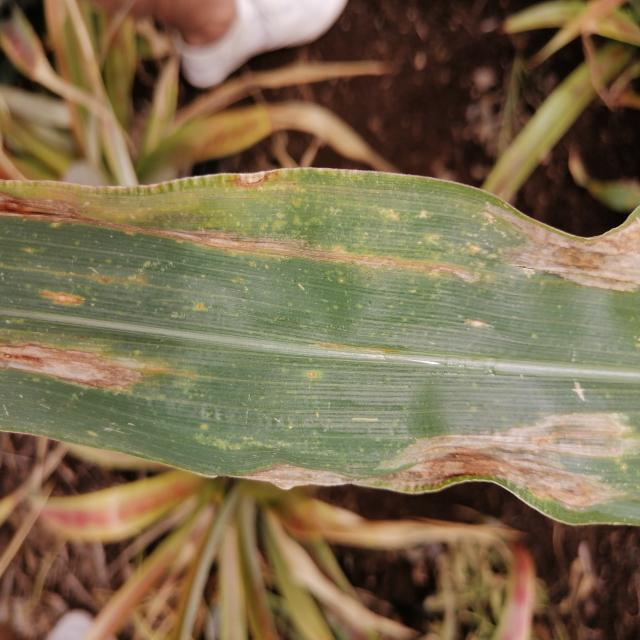Corn_Leaf_Blight: (0, 171, 640, 535)
